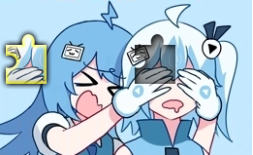gap: (135, 34, 175, 84)
